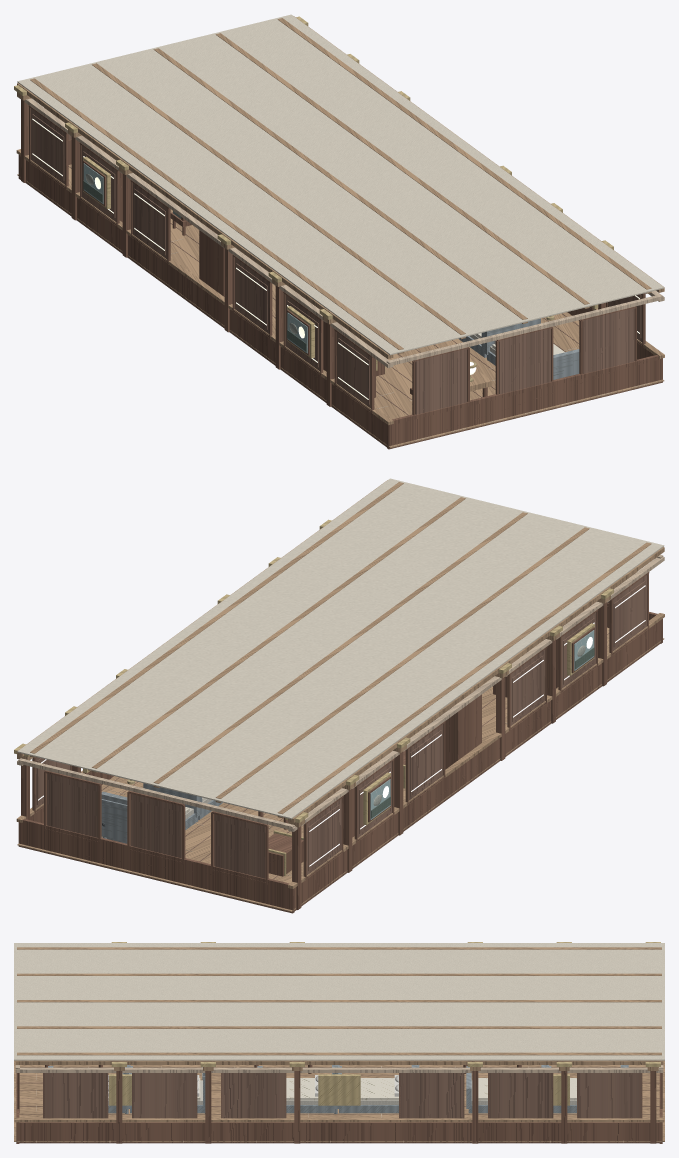
File: cabin.gltf
The picture shows the model from 3 angles, top to bottom: view 1: azimuth 30°, elevation 25°; view 2: azimuth 150°, elevation 25°; view 3: azimuth 270°, elevation 25°; orthographic projection. The views are drawn at different scales.
Parts seen in each view (by area): view 1: plaster, oakdark, oak, walnut, woodlight, gold, steel, sky; view 2: plaster, oakdark, oak, walnut, woodlight, steel, gold, sky; view 3: plaster, oak, walnut, oakdark, woodlight, gold, steel, ivory, linen.
Boxes of the visible parts, left/top/right/bottom form: plaster: left=17, top=14, right=664, bottom=355; oakdark: left=18, top=99, right=662, bottom=449; oak: left=16, top=16, right=664, bottom=447; walnut: left=30, top=108, right=642, bottom=415; woodlight: left=17, top=96, right=664, bottom=440; gold: left=14, top=16, right=613, bottom=379; steel: left=458, top=318, right=579, bottom=379; sky: left=83, top=163, right=307, bottom=353; plaster: left=17, top=478, right=664, bottom=819; oakdark: left=18, top=572, right=662, bottom=913; oak: left=16, top=480, right=664, bottom=911; walnut: left=35, top=574, right=647, bottom=879; woodlight: left=17, top=555, right=664, bottom=875; steel: left=101, top=783, right=222, bottom=843; gold: left=14, top=519, right=613, bottom=875; sky: left=370, top=630, right=594, bottom=819; plaster: left=14, top=943, right=664, bottom=1060; oak: left=14, top=947, right=664, bottom=1141; walnut: left=19, top=1067, right=659, bottom=1118; oakdark: left=16, top=1065, right=662, bottom=1143; woodlight: left=14, top=1065, right=663, bottom=1142; gold: left=109, top=942, right=660, bottom=1105; steel: left=48, top=1065, right=628, bottom=1113; ivory: left=108, top=1078, right=576, bottom=1100; linen: left=108, top=1080, right=576, bottom=1104.
Bounding box in the file's own units: 9.28 × 2.99 × 20.85.
Materials: 19 (19 with a texture image).
